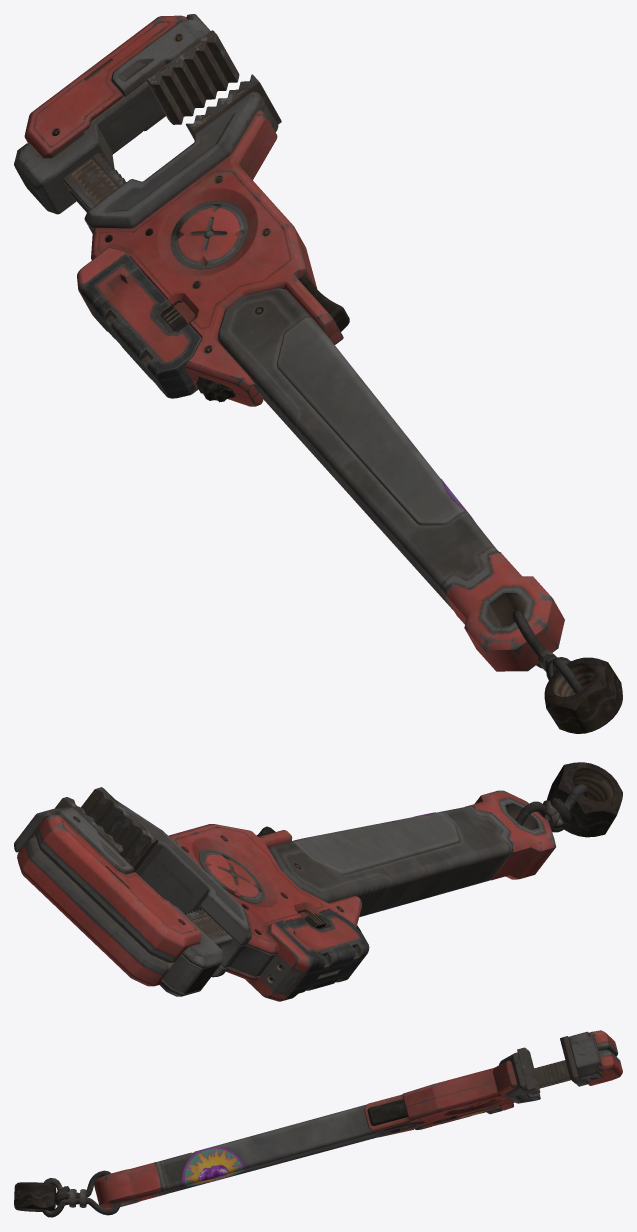
The picture shows the model from 3 angles, top to bottom: view 1: azimuth 30°, elevation 25°; view 2: azimuth 150°, elevation 25°; view 3: azimuth 270°, elevation 25°; orthographic projection. The views are drawn at different scales.
Visible parts, largest first — view 1: body_0_rampart_heirloom_rampart_heirloom_0; view 2: body_0_rampart_heirloom_rampart_heirloom_0; view 3: body_0_rampart_heirloom_rampart_heirloom_0.
Part boxes in pixels (left/top/right/bottom): body_0_rampart_heirloom_rampart_heirloom_0: left=14, top=14, right=622, bottom=733; body_0_rampart_heirloom_rampart_heirloom_0: left=14, top=762, right=622, bottom=1001; body_0_rampart_heirloom_rampart_heirloom_0: left=14, top=1030, right=622, bottom=1217.
Size of the model in its own units: 6.01 by 8.71 by 23.57.
Materials: 3 (1 with a texture image).
